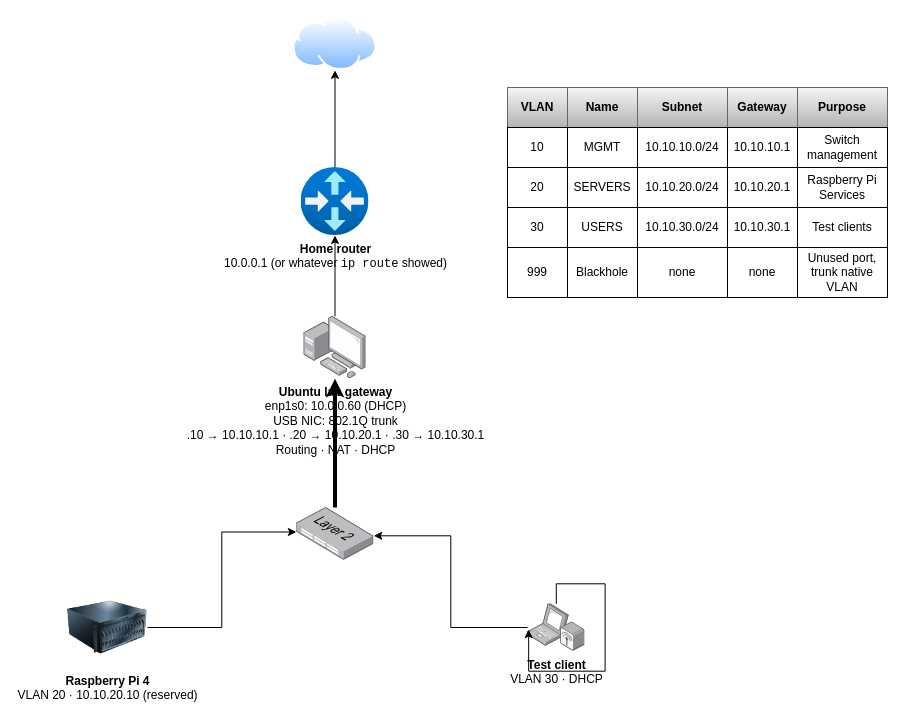
Some shapes in this 905 by 720 pixel diagram are drawn without their labels. The shapes that lost their labels are listed below. From the top down, each one's box as (x1, y1, x2, y2) in pixels, then its label:
(293, 17, 376, 70): Internet
(296, 507, 374, 560): SW1, Catalyst 2960-48TT-L MGMT SVI: 10.10.10.2 (VLAN 10)
